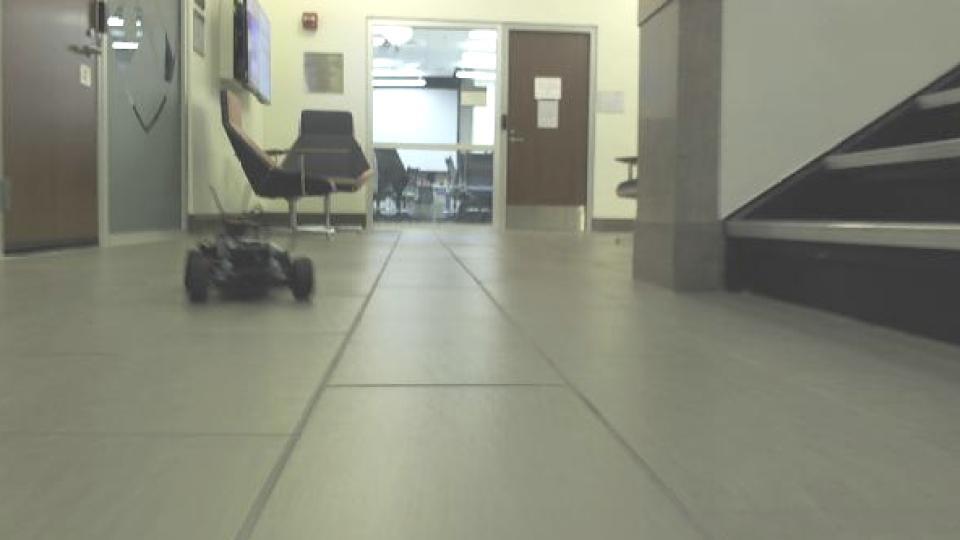car: (178, 180, 318, 308)
